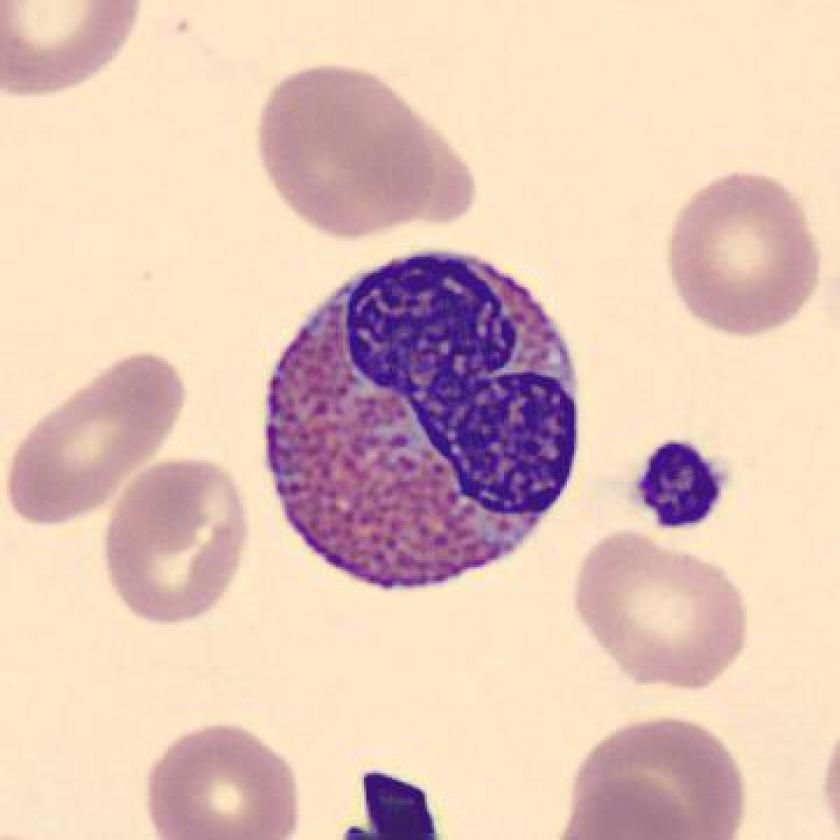eosinophil: (253, 235, 589, 603)
